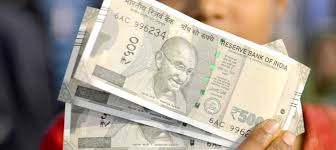fiveHundred: (105, 13, 266, 124)
